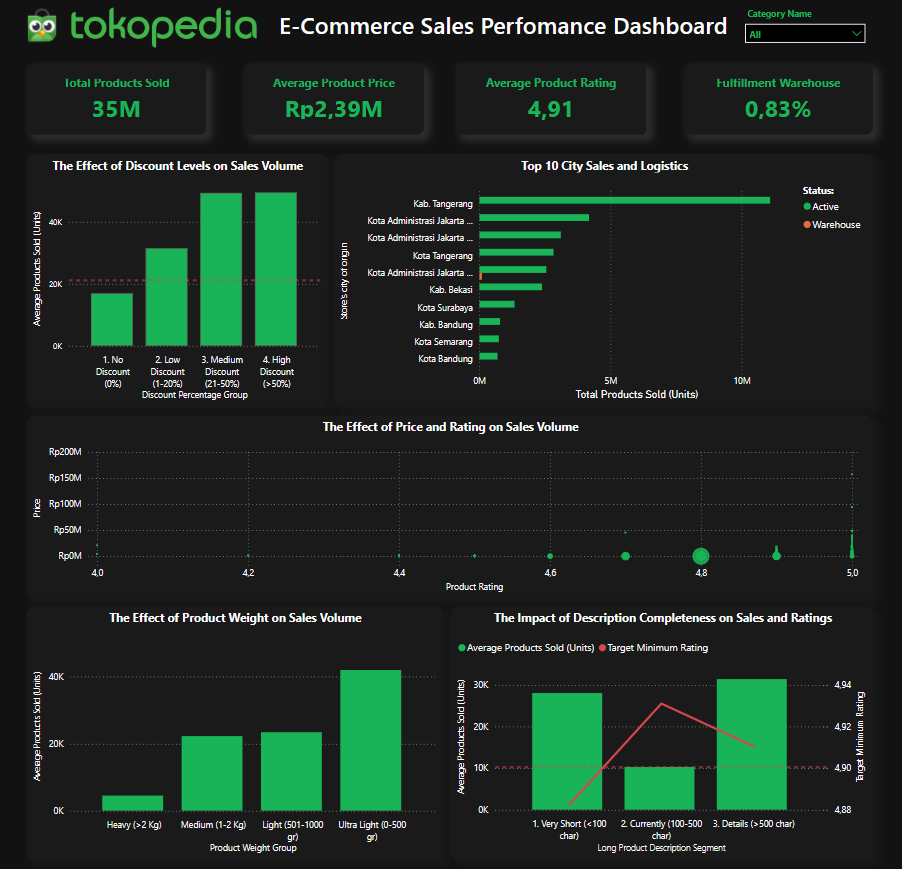

The page's visual inventory and layout, read from the dashboard file:
{"tool":"powerbi","page":{"name":"Page 1","canvas":[1250,1200],"ordinal":0},"visuals":[{"type":"cardVisual","fields":{"Data":["Sum(Sheet1.sold_count)"]},"box":[43,91,261,98],"z":0},{"type":"cardVisual","fields":{"Data":["Avg(Sheet1.price)"]},"box":[340.9,91.3,247.5,97.5],"z":1000},{"type":"cardVisual","fields":{"Data":["Avg(Sheet1.rating)"]},"box":[632,91.3,261.2,97.5],"z":2000},{"type":"cardVisual","fields":{"Data":["Sheet1.Fulfillment Rate"]},"box":[928,91,276,98],"z":3000},{"type":"image","box":[98.7,13.6,264.2,56.4],"z":4000},{"type":"image","box":[17.6,9.1,90.4,60.9],"z":5000},{"type":"textbox","box":[378.7,11.3,636.7,56.4],"z":6000},{"type":"clusteredColumnChart","title":"The Effect of Discount Levels on Sales Volume","fields":{"Category":["Sheet1.discount_tier"],"Y":["Avg(Sheet1.sold_count)"]},"box":[43,216,396,347],"z":7000},{"type":"scatterChart","title":"The Effect of Price and Rating on Sales Volume","fields":{"X":["Sum(Sheet1.rating)"],"Y":["Sum(Sheet1.price)"],"Size":["Sum(Sheet1.sold_count)"],"Category":["Sheet1.id"]},"box":[43,575,1161,251],"z":8000},{"type":"clusteredBarChart","title":"Top 10 City Sales and Logistics","fields":{"Category":["Sheet1.shop_city"],"Y":["Sum(Sheet1.sold_count)"],"Series":["Sheet1.status"]},"box":[448,216,757,347],"z":9000},{"type":"clusteredColumnChart","title":"The Effect of Product Weight on Sales Volume","fields":{"Category":["Sheet1.weight_tier"],"Y":["Avg(Sheet1.sold_count)"]},"box":[43.1,836.9,570,347.8],"z":10000},{"type":"lineClusteredColumnComboChart","title":"The Impact of Description Completeness on Sales and Ratings","fields":{"Category":["Sheet1.description_segment"],"Y":["Avg(Sheet1.sold_count)"],"Y2":["Avg(Sheet1.rating)"]},"box":[624.9,836.6,580,347.1],"z":11000},{"type":"slicer","fields":{"Values":["Sheet1.category_name"]},"box":[1019,9,185,66],"z":12000}]}

Visuals, with their boxes in screenshot pixels (x1, y1, x2, y2), scaled from the page's 1250x1200 canvas onto the 902x869 screenshot:
cardVisual - Sum(Sheet1.sold_count): BBox(31, 66, 219, 137)
cardVisual - Avg(Sheet1.price): BBox(246, 66, 425, 137)
cardVisual - Avg(Sheet1.rating): BBox(456, 66, 645, 137)
cardVisual - Sheet1.Fulfillment Rate: BBox(670, 66, 869, 137)
image: BBox(71, 10, 262, 51)
image: BBox(13, 7, 78, 51)
textbox: BBox(273, 8, 733, 49)
"The Effect of Discount Levels on Sales Volume" clusteredColumnChart: BBox(31, 156, 317, 408)
"The Effect of Price and Rating on Sales Volume" scatterChart: BBox(31, 416, 869, 598)
"Top 10 City Sales and Logistics" clusteredBarChart: BBox(323, 156, 870, 408)
"The Effect of Product Weight on Sales Volume" clusteredColumnChart: BBox(31, 606, 442, 858)
"The Impact of Description Completeness on Sales and Ratings" lineClusteredColumnComboChart: BBox(451, 606, 869, 857)
slicer - Sheet1.category_name: BBox(735, 7, 869, 54)
